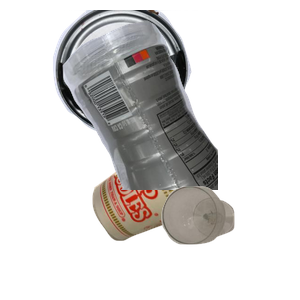glass: (159, 184, 300, 300)
metal: (50, 10, 262, 140)
plastic: (60, 18, 300, 198)
trash: (90, 129, 295, 300)
